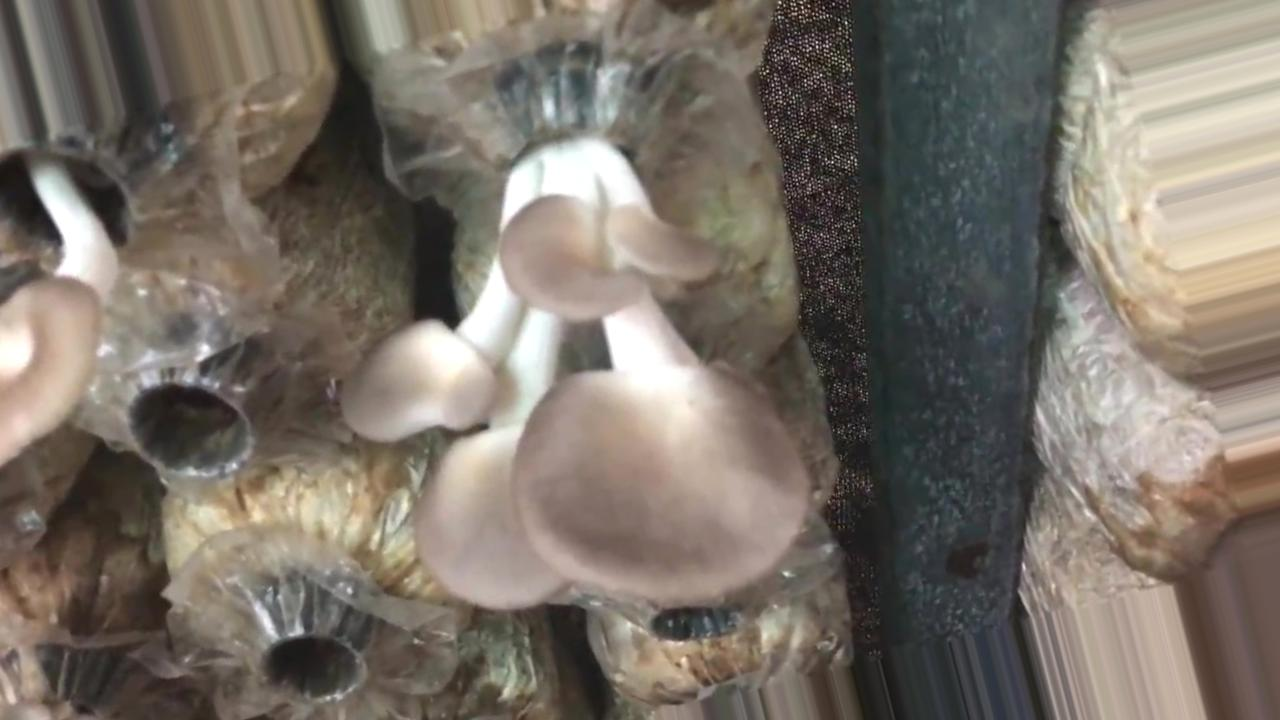nam: (346, 45, 805, 609), (1, 128, 145, 459)
